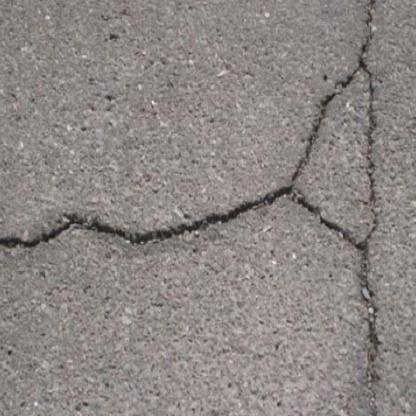Cracks: (0, 0, 388, 357)
